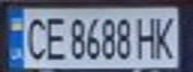6: (84, 15, 103, 61)
8: (66, 14, 87, 61), (115, 15, 136, 61), (100, 15, 118, 61)
C: (21, 14, 51, 62)
E: (42, 12, 69, 62)
H: (133, 12, 160, 61)
K: (151, 11, 181, 60)
